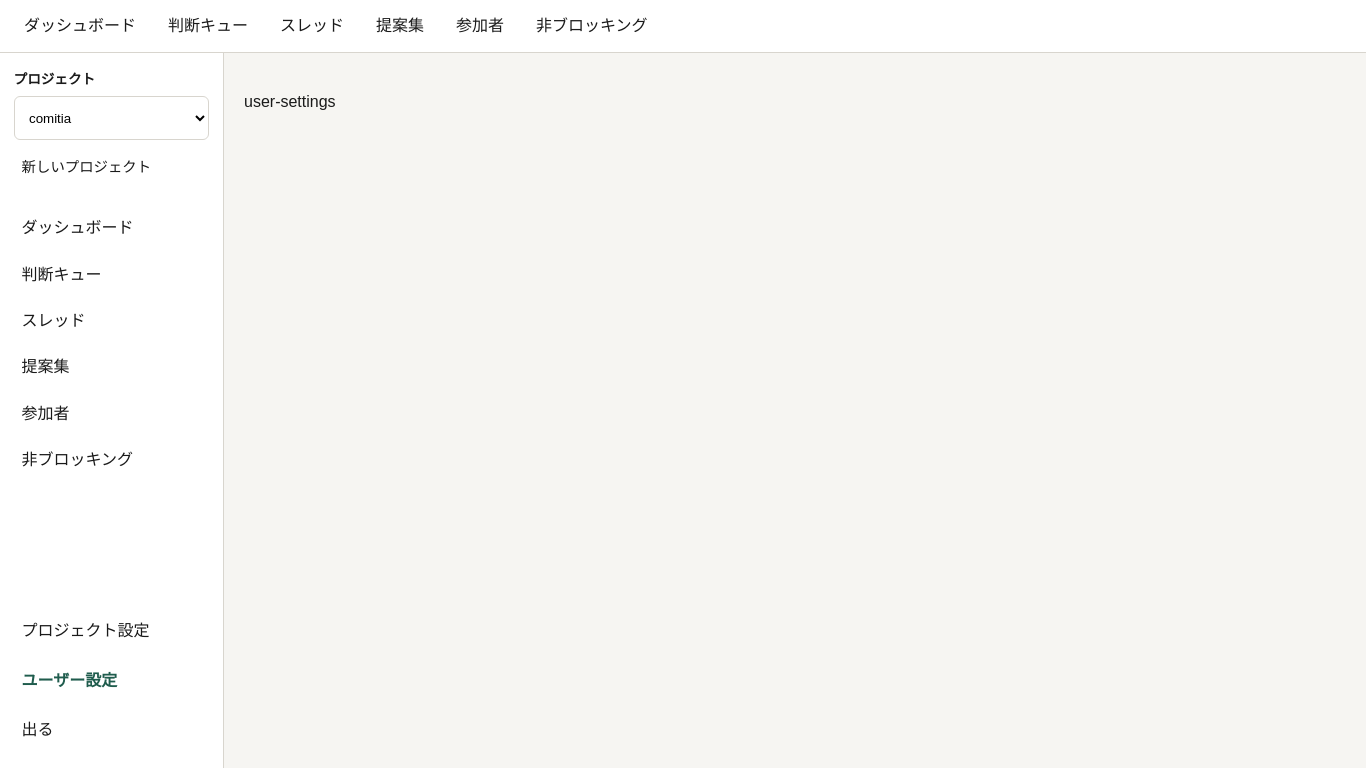
Test: Layout › goes to the new project's dashboard when switching from user settings
Check: the text "user-settings" is shown, box 244,93 -> 336,110
Select "実験" in the dropdown labelled "プロジェクト" at (112, 118), box 14,96 -> 209,140
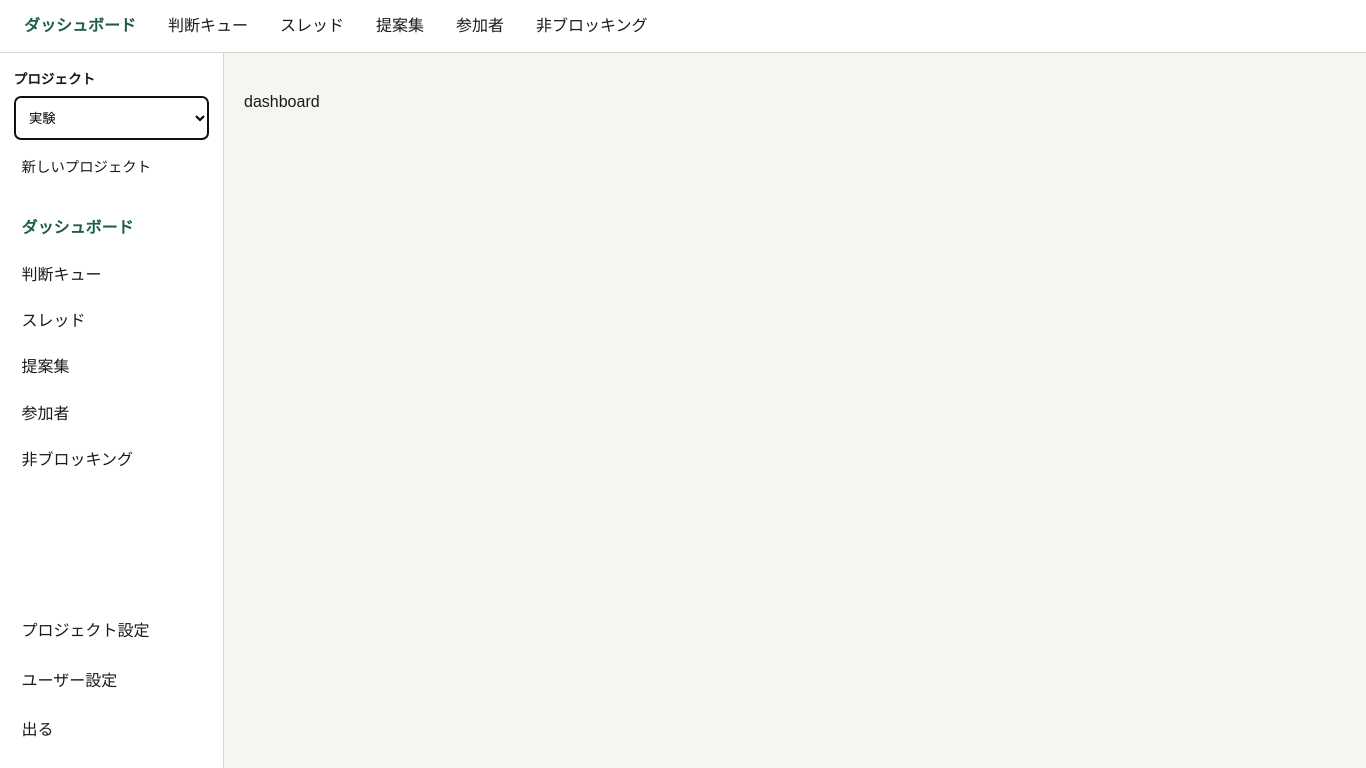
Check: the text "dashboard" is shown, box 244,93 -> 320,110
